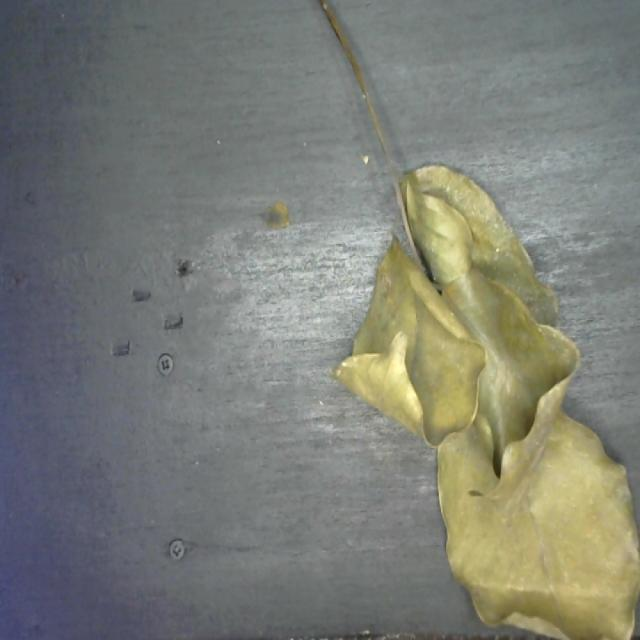biodegradable: (342, 152, 640, 640)
